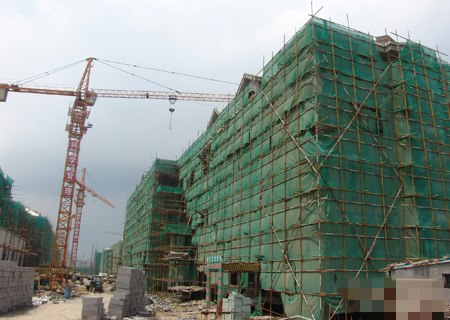brick: (109, 267, 146, 317), (1, 261, 35, 314), (81, 295, 108, 320)
hook: (167, 106, 177, 114)
